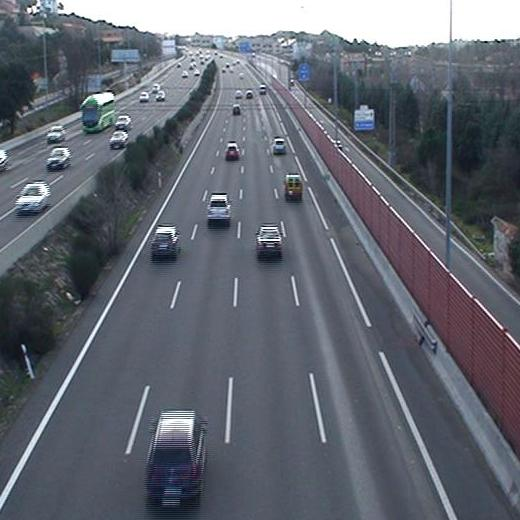car: (136, 404, 218, 518), (147, 221, 184, 263), (253, 223, 288, 264), (202, 189, 235, 230), (271, 135, 289, 156), (223, 142, 240, 161), (230, 103, 243, 116), (232, 87, 244, 98), (244, 88, 255, 98), (258, 84, 268, 95)
van: (281, 173, 307, 206)
